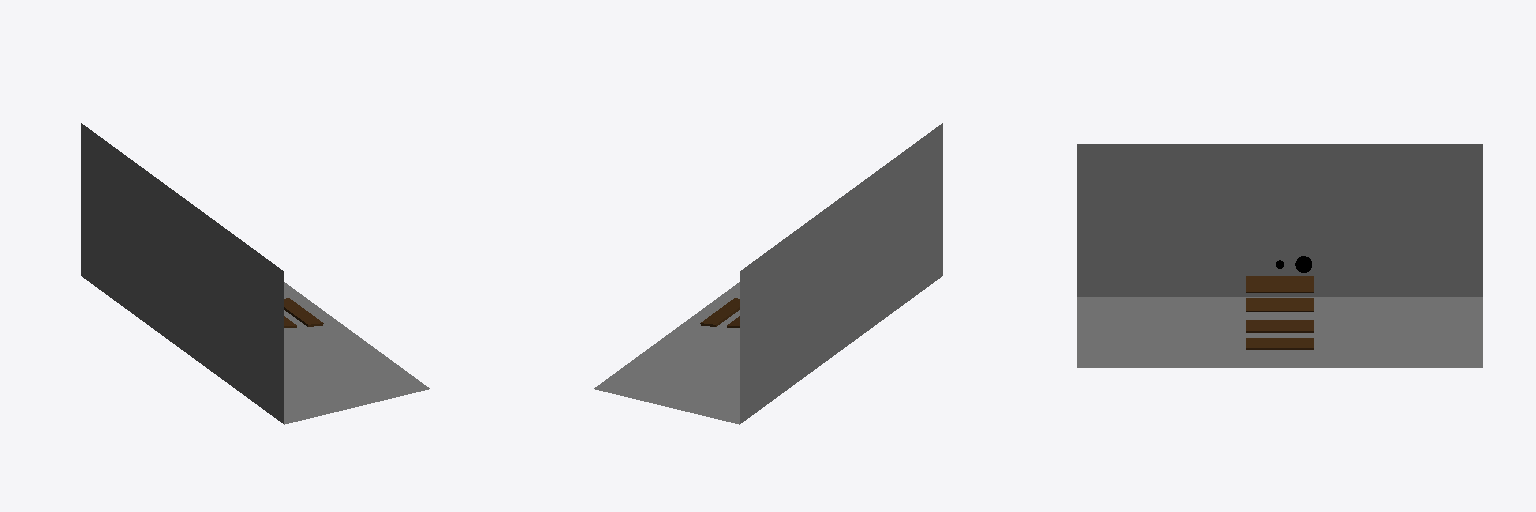
Rendered from veach-mis.obj.
3 views of the same model, side by side, from view 1: azimuth 30°, elevation 25°; view 2: azimuth 150°, elevation 25°; view 3: azimuth 270°, elevation 25° (orthographic).
Parts seen in each view (by area): view 1: default; view 2: default; view 3: default.
Boxes of the visible parts, x1,y1,x2,y2 form: default: [81, 123, 429, 424]; default: [594, 123, 942, 424]; default: [1077, 144, 1482, 367].
Bounding box in the file's own units: 19.8 × 19.8 × 47.52.